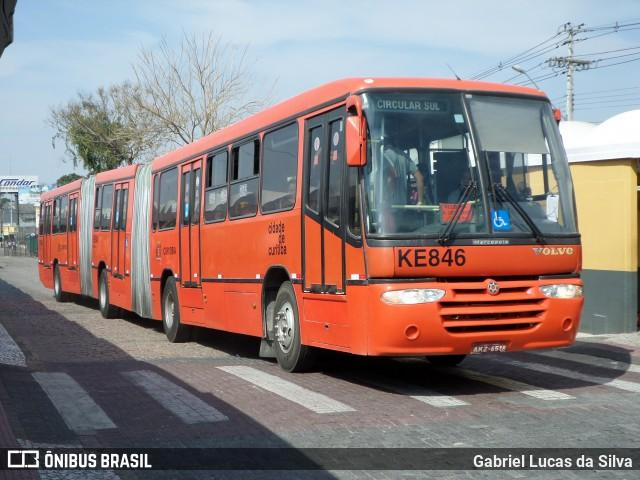CIRCULAR SUL: (374, 97, 443, 114)
